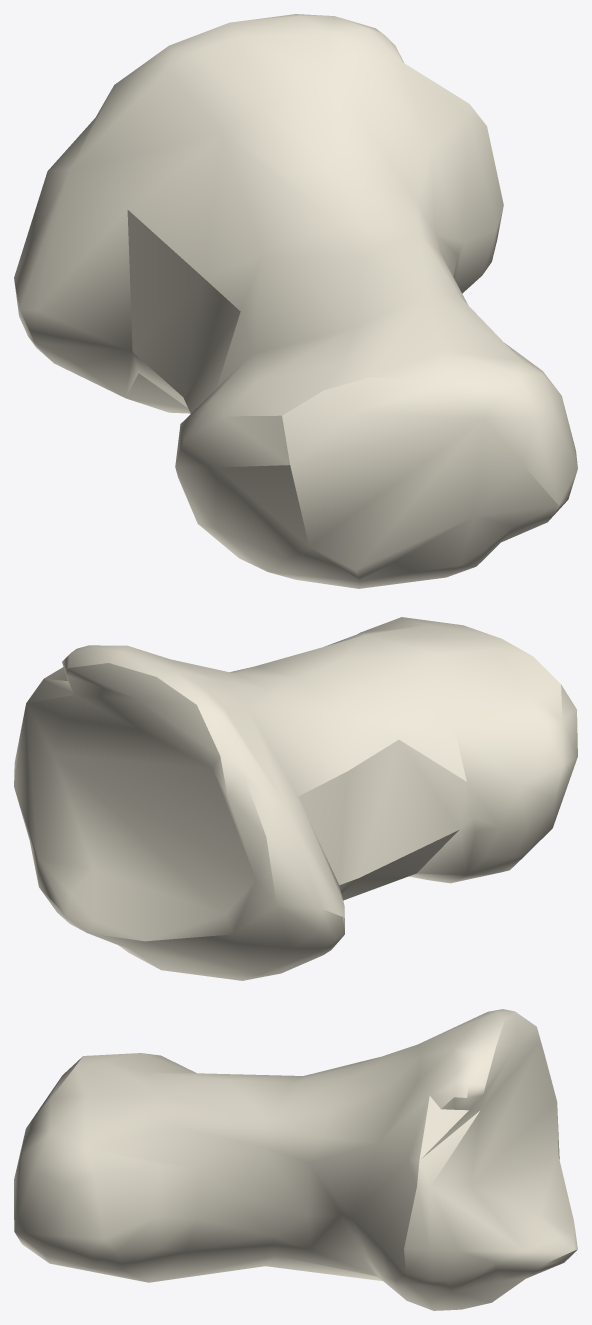
Rendered from fma32652.glb.
3 renders of one model, top to bottom at view 1: azimuth 30°, elevation 25°; view 2: azimuth 150°, elevation 25°; view 3: azimuth 270°, elevation 25°, orthographic. The views are drawn at different scales.
Parts seen in each view (by area): view 1: FMA32652; view 2: FMA32652; view 3: FMA32652.
Boxes of the visible parts, box(x1,y1,x2,y2) form: FMA32652: box(14, 14, 577, 588); FMA32652: box(14, 617, 577, 980); FMA32652: box(14, 1009, 577, 1310).
Size of the model in its own units: 0.0101 by 0.00746 by 0.0132.
